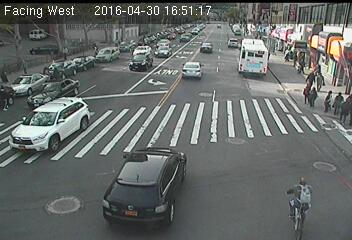neg: (283, 176, 322, 227), (14, 83, 31, 106), (301, 116, 318, 139), (278, 80, 294, 102), (60, 71, 75, 90), (233, 58, 246, 76), (326, 66, 339, 83), (43, 63, 54, 78), (266, 43, 276, 56), (296, 62, 305, 75), (224, 37, 232, 48), (113, 39, 121, 49), (292, 40, 300, 50), (140, 36, 147, 46)
pos: (298, 82, 317, 106), (331, 90, 349, 115), (337, 95, 351, 123), (306, 86, 322, 108), (315, 71, 330, 92), (322, 90, 337, 110), (304, 69, 317, 87), (60, 44, 73, 61), (91, 44, 98, 54)
